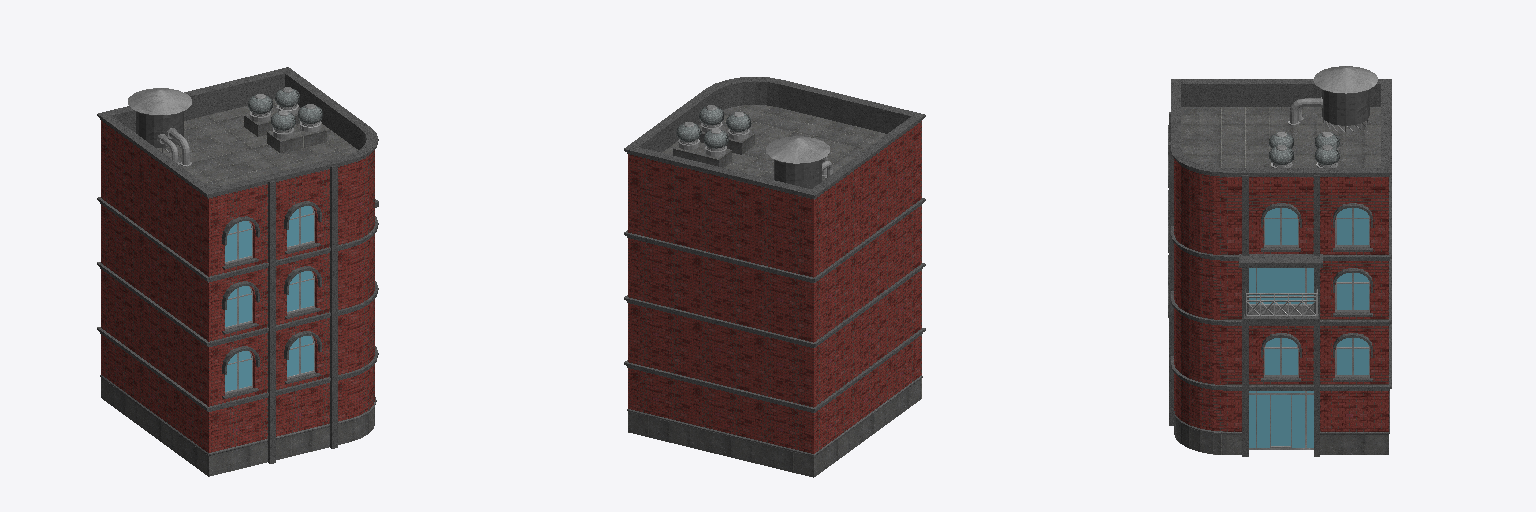
The picture shows the model from 3 angles: view 1: azimuth 30°, elevation 25°; view 2: azimuth 150°, elevation 25°; view 3: azimuth 270°, elevation 25°; orthographic projection.
Visible parts, largest first — view 1: Building_Small_DownTown3_Building_Small_DownTown3_Mesh; view 2: Building_Small_DownTown3_Building_Small_DownTown3_Mesh; view 3: Building_Small_DownTown3_Building_Small_DownTown3_Mesh.
Part boxes in pixels (x1,y1,x2,y2): Building_Small_DownTown3_Building_Small_DownTown3_Mesh: (97, 67, 378, 476); Building_Small_DownTown3_Building_Small_DownTown3_Mesh: (624, 77, 925, 477); Building_Small_DownTown3_Building_Small_DownTown3_Mesh: (1168, 66, 1391, 456).
Size of the model in its own units: 9.98 by 14.56 by 9.37.
Materials: 9 (8 with a texture image).